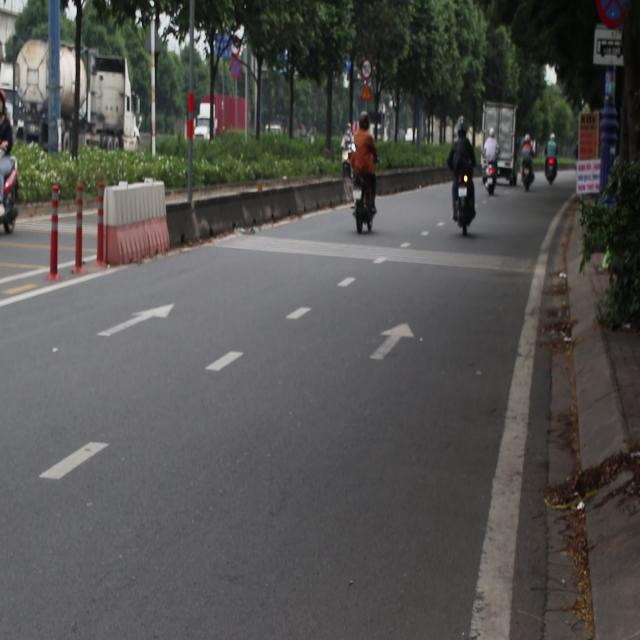motorbike: (354, 171, 377, 241), (481, 152, 498, 204), (339, 146, 360, 187), (453, 180, 466, 229), (521, 157, 536, 196), (542, 154, 558, 186)
truck: (13, 43, 140, 153), (194, 80, 255, 152), (474, 99, 519, 189)
